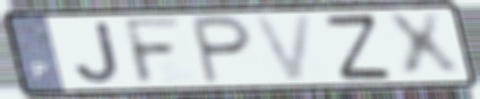F: (120, 15, 187, 88)
J: (71, 20, 123, 86)
P: (189, 14, 256, 86)
V: (249, 12, 317, 84)
X: (381, 10, 466, 81)
Z: (320, 12, 395, 82)
